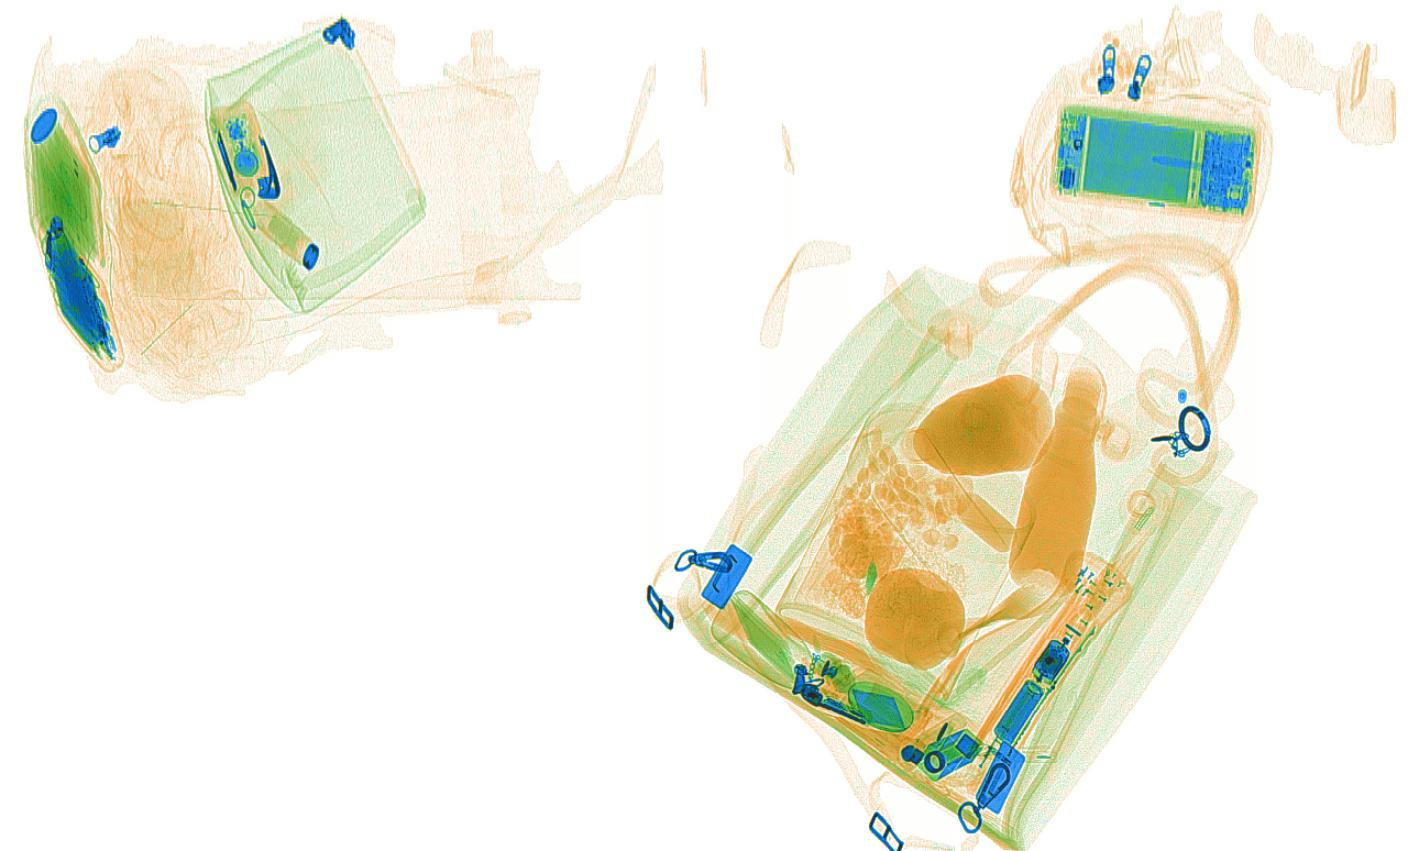battery: (992, 679, 1047, 744)
